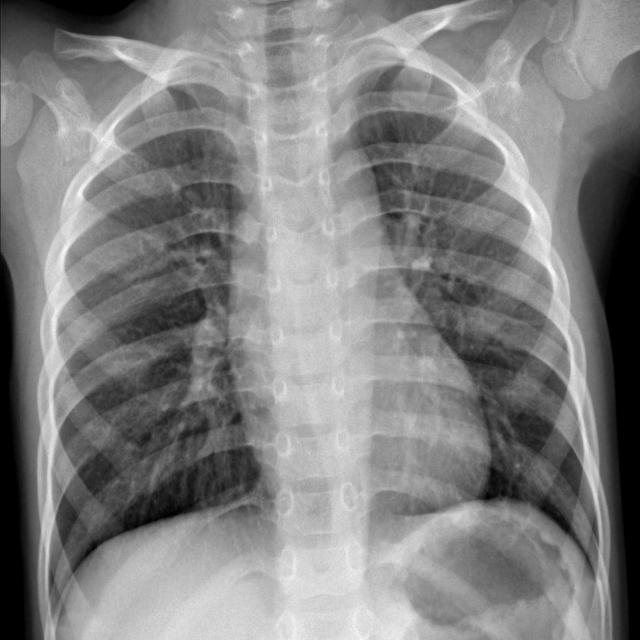no-pneumonia: (355, 64, 606, 572), (41, 85, 262, 622)
